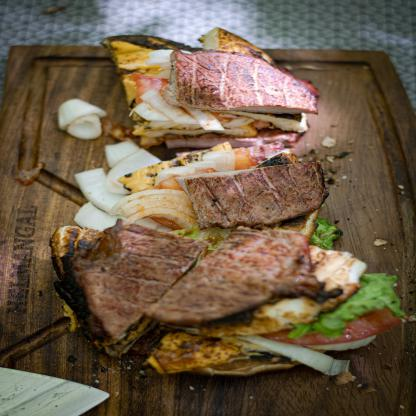Carne: (162, 229, 330, 323), (85, 222, 207, 336), (178, 161, 345, 224), (171, 48, 316, 113)
